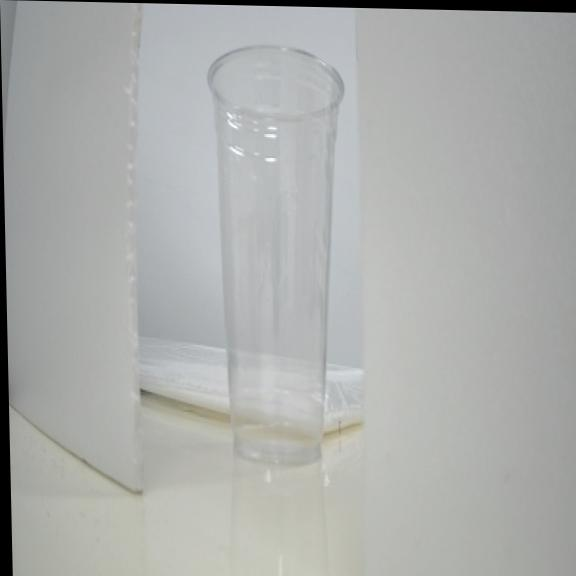Plastik: (209, 47, 344, 463)
